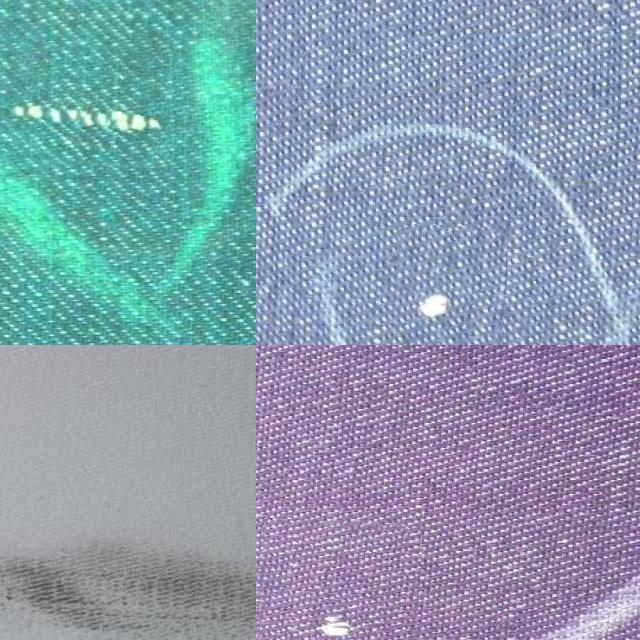Thread_other: (0, 450, 256, 640)
stains: (0, 43, 172, 166), (258, 519, 420, 640), (393, 223, 505, 345)
